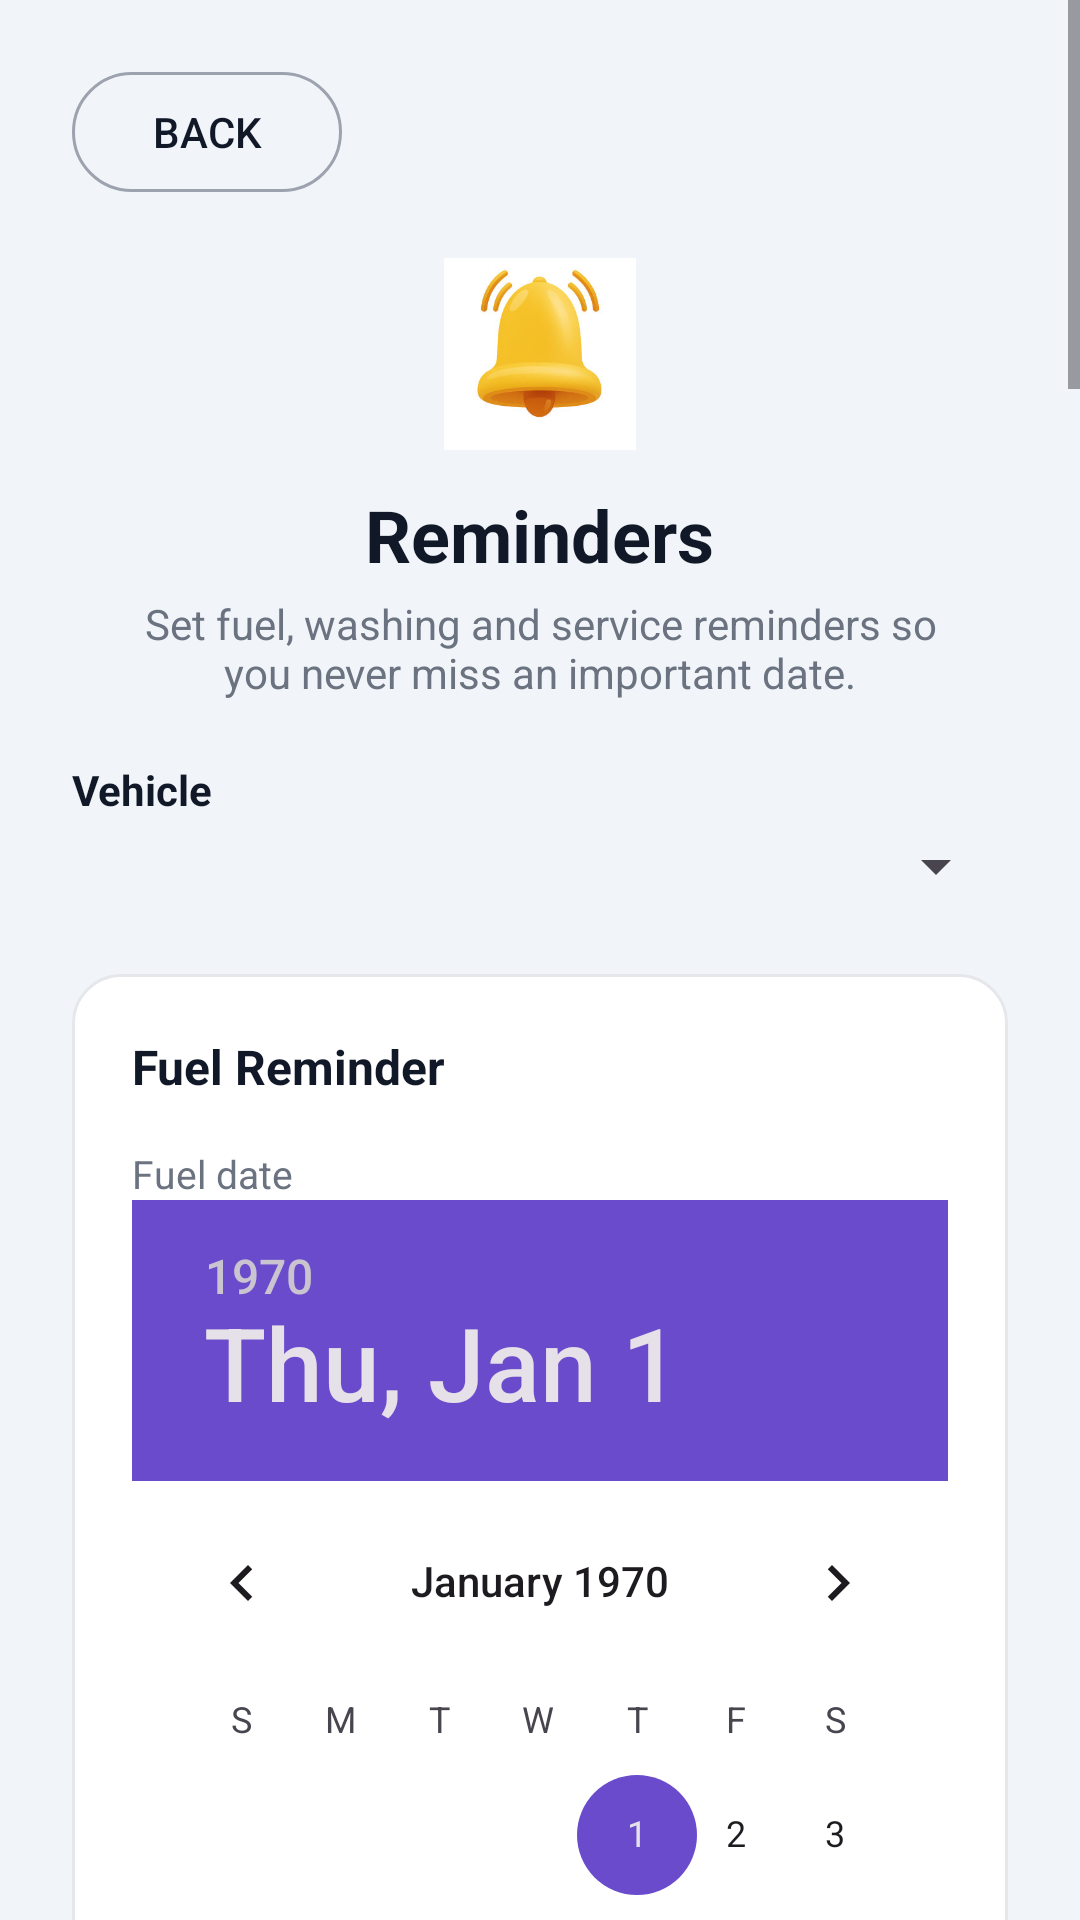

Icon click points for this 1080px×1920px phone screenshot, format (x,y):
reminder pic: (539,344)
